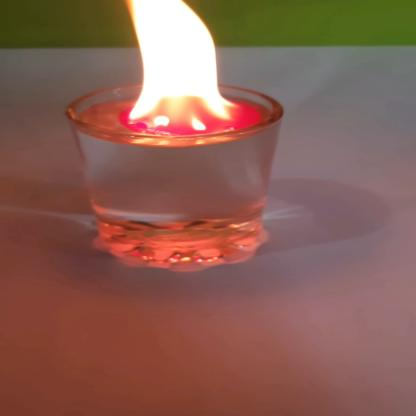Fire: (118, 0, 242, 123)
